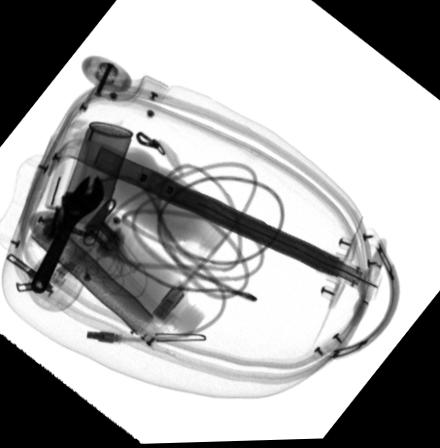Wrench: (30, 175, 104, 294)
